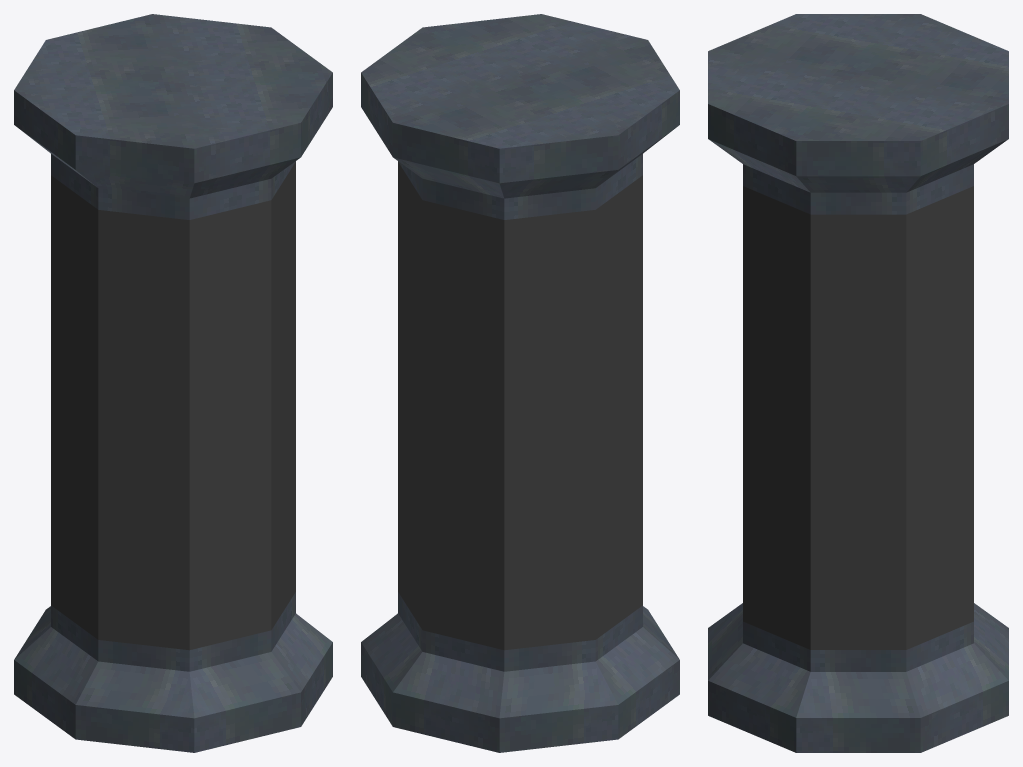
The model's file is TestTube.fbx.
3 views of the same model, side by side, from view 1: azimuth 30°, elevation 25°; view 2: azimuth 150°, elevation 25°; view 3: azimuth 270°, elevation 25° (orthographic).
Parts seen in each view (by area): view 1: TestTube; view 2: TestTube; view 3: TestTube.
Boxes of the visible parts, x1,y1,x2,y2 form: TestTube: (14, 14, 332, 752); TestTube: (361, 14, 679, 752); TestTube: (708, 14, 1008, 752).
Bounding box in the file's own units: 92.39 × 207 × 92.39.
Materials: 2 (1 with a texture image).
